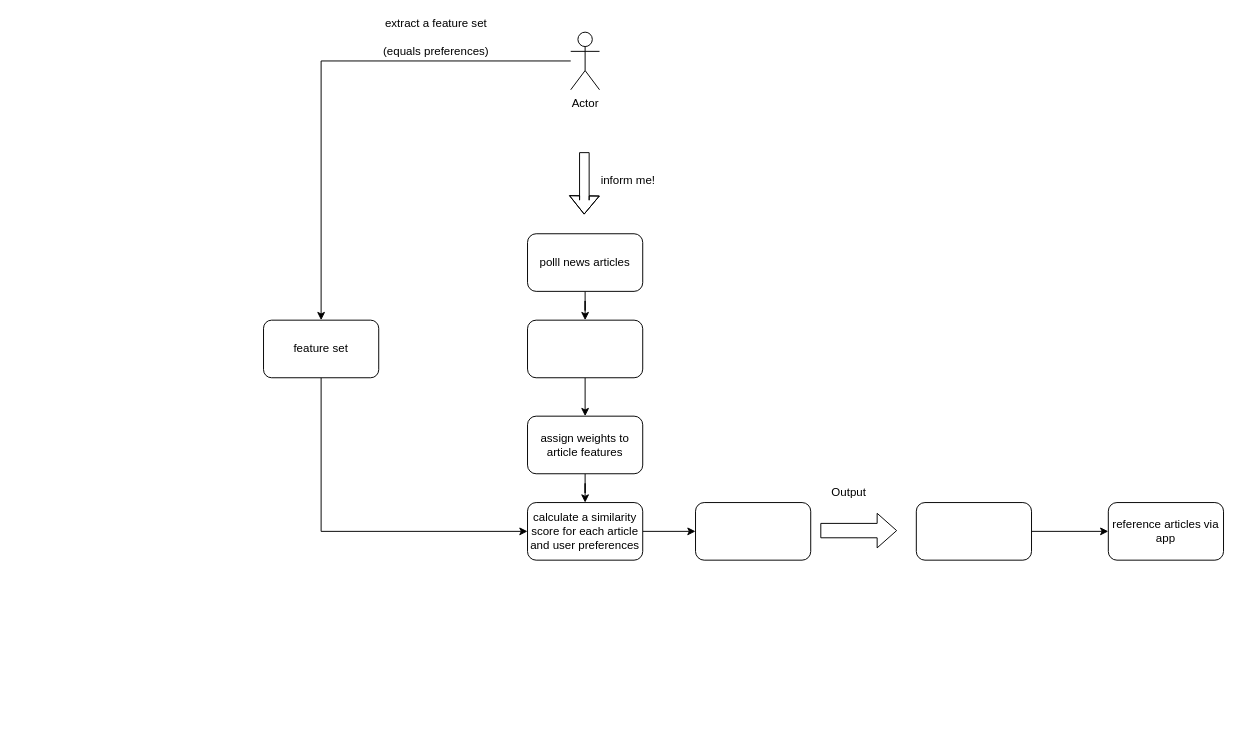
Image size: 1240x748. Some labels were removed from this diagram. The shapes that lost their labels are listed below. From the top down, each one's box as (x1, y1, x2, y2) in pixels, then its label:
(527, 319, 643, 378): extract feature set of each article
(695, 502, 811, 560): Rank articles based on simalirty score
(915, 502, 1032, 560): Read out aloud the contents of top 3 articles
